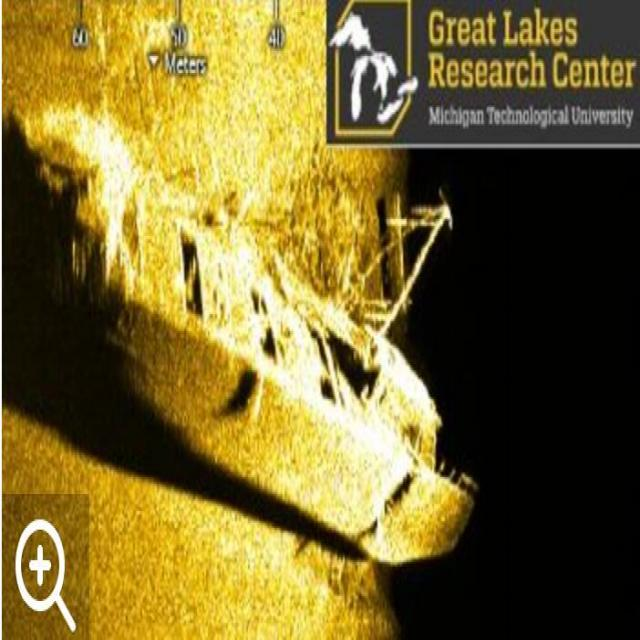ship: (22, 104, 479, 566)
